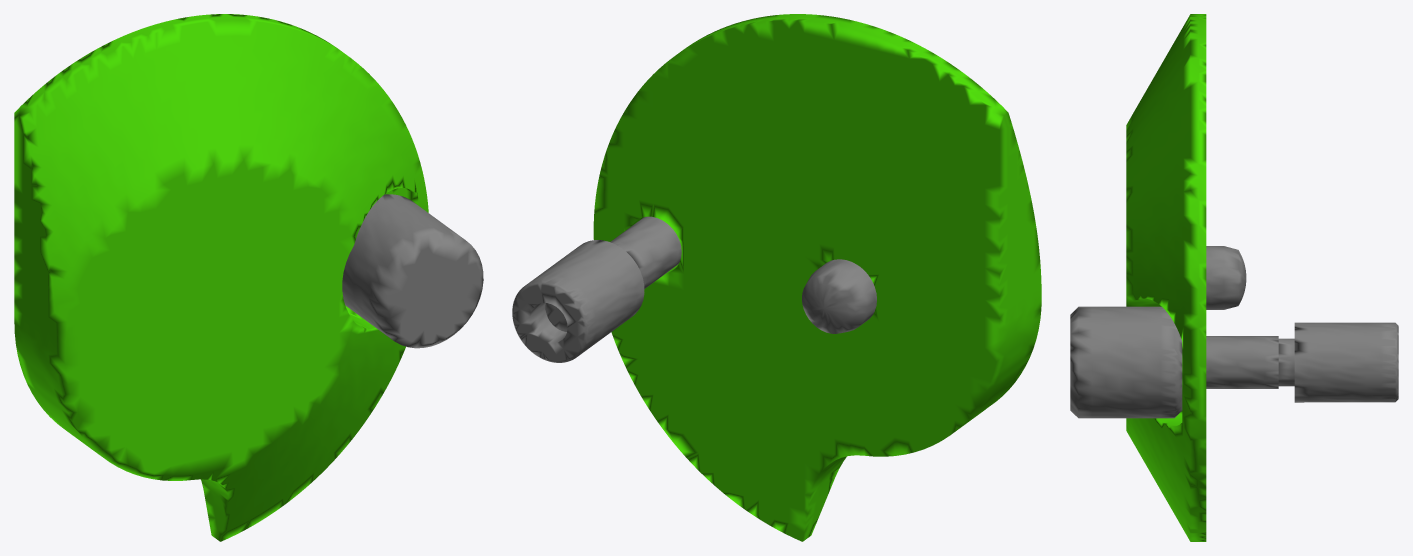
The model's file is bennett_left_deco.obj.
3 views of the same model, side by side, from view 1: azimuth 30°, elevation 25°; view 2: azimuth 150°, elevation 25°; view 3: azimuth 270°, elevation 25° (orthographic). The views are drawn at different scales.
Bounding box in the file's own units: 26.5 × 32.75 × 20.5.
